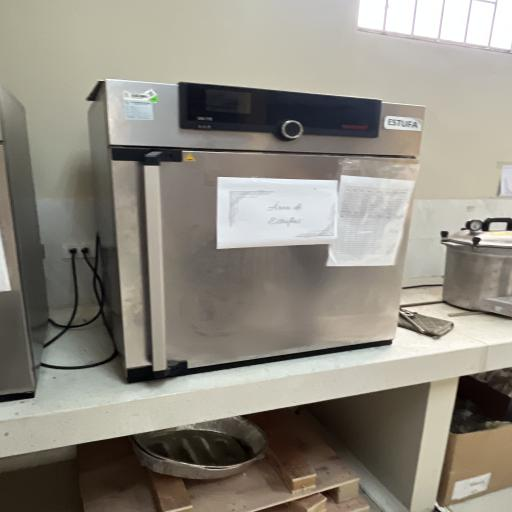Estufa_Memmert: (72, 61, 434, 391)
